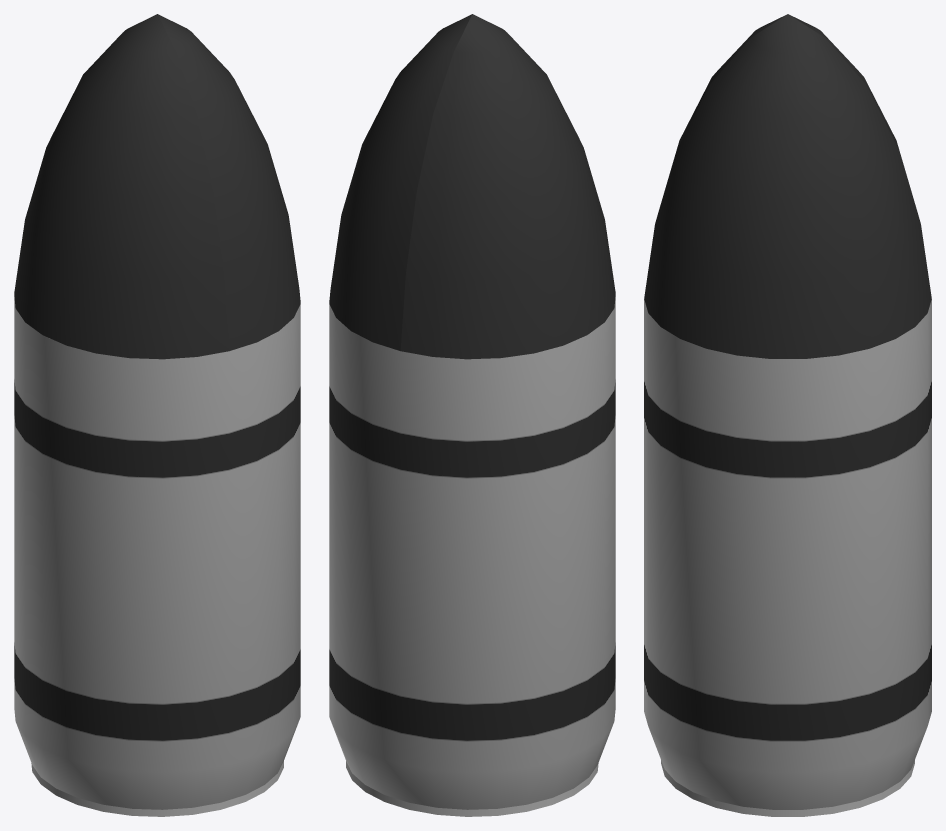
The model's file is fairing.fbx.
3 views of the same model, side by side, from view 1: azimuth 30°, elevation 25°; view 2: azimuth 150°, elevation 25°; view 3: azimuth 270°, elevation 25° (orthographic).
Visible parts, largest first — view 1: fairings, cap, cap_001; view 2: fairings, cap, cap_001; view 3: fairings, cap_001, cap.
Boxes of the visible parts, left/top/right/bottom form: fairings: left=14, top=297, right=300, bottom=816; cap: left=14, top=14, right=229, bottom=359; cap_001: left=157, top=14, right=300, bottom=350; fairings: left=329, top=297, right=615, bottom=816; cap: left=400, top=14, right=615, bottom=359; cap_001: left=329, top=14, right=472, bottom=350; fairings: left=644, top=299, right=931, bottom=816; cap_001: left=644, top=14, right=931, bottom=358; cap: left=676, top=15, right=899, bottom=151.
Size of what is drawn, in the model's own units: 1.39 by 4.01 by 1.4.
Materials: 2 (1 with a texture image).
